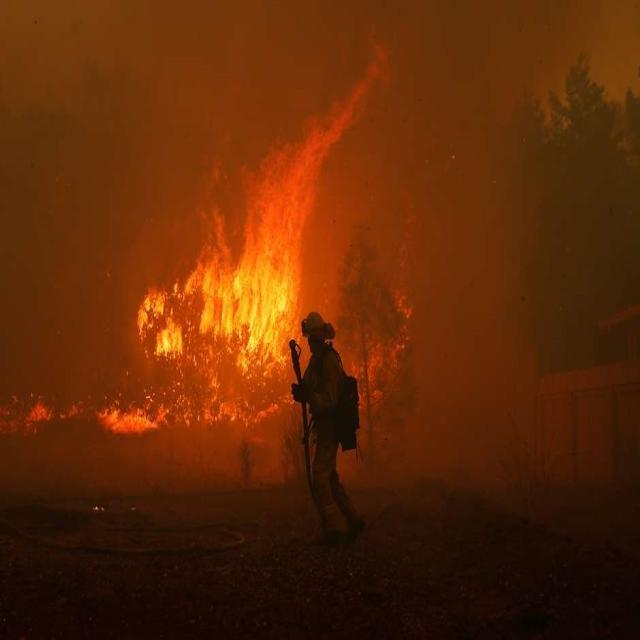Fire: (187, 82, 365, 354), (137, 283, 286, 427), (0, 396, 159, 436)
